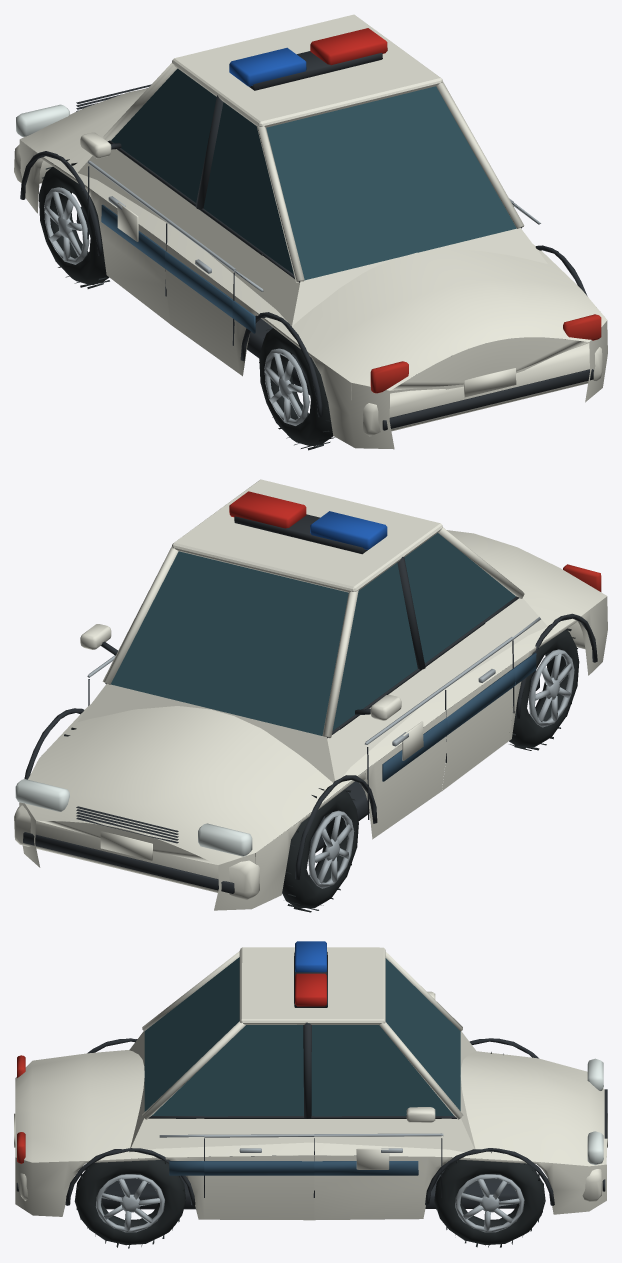
3 views of the same model, one above another, from view 1: azimuth 30°, elevation 25°; view 2: azimuth 150°, elevation 25°; view 3: azimuth 270°, elevation 25° (orthographic). The views are drawn at different scales.
Parts seen in each view (by area): view 1: patrol_car_body, patrol_car_front_left_door, patrol_car_rear_left_door, patrol_car_rear_left_wheel, patrol_car_front_left_wheel; view 2: patrol_car_body, patrol_car_front_left_door, patrol_car_rear_left_door, patrol_car_front_left_wheel, patrol_car_rear_left_wheel, patrol_car_front_right_door; view 3: patrol_car_body, patrol_car_front_right_door, patrol_car_rear_right_door, patrol_car_front_right_wheel, patrol_car_rear_right_wheel.
Boxes of the visible parts, box(x1,y1,x2,y2) form: patrol_car_body: box(14, 14, 607, 449); patrol_car_front_left_door: box(80, 68, 216, 324); patrol_car_rear_left_door: box(165, 102, 274, 373); patrol_car_rear_left_wheel: box(259, 328, 335, 450); patrol_car_front_left_wheel: box(38, 159, 109, 288); patrol_car_body: box(14, 479, 607, 910); patrol_car_front_left_door: box(335, 564, 447, 839); patrol_car_rear_left_door: box(395, 533, 515, 790); patrol_car_front_left_wheel: box(282, 788, 358, 912); patrol_car_rear_left_wheel: box(509, 628, 579, 750); patrol_car_front_right_door: box(80, 624, 117, 705); patrol_car_body: box(14, 941, 607, 1219); patrol_car_front_right_door: box(314, 1025, 442, 1220); patrol_car_rear_right_door: box(204, 1025, 314, 1220); patrol_car_front_right_wheel: box(434, 1152, 545, 1247); patrol_car_rear_right_wheel: box(74, 1157, 186, 1248).
Bounding box in the file's own units: 1.7 × 1.5 × 3.5.
